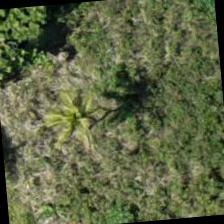Kelapa_Sawit: (26, 74, 124, 172)
